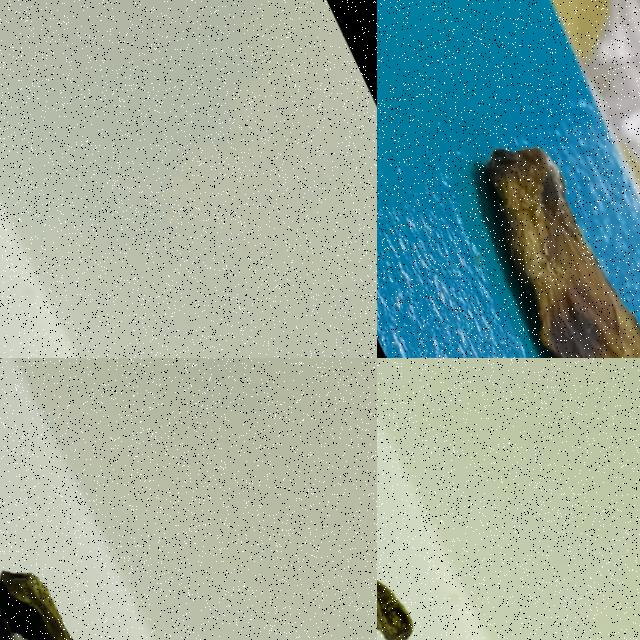Flat_cocoabeans: (407, 57, 639, 357), (0, 488, 185, 639), (377, 358, 474, 639)
